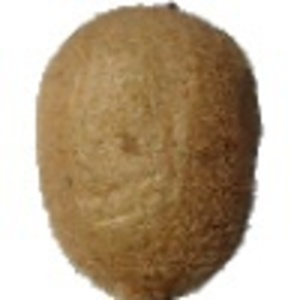kiwi: (34, 1, 263, 300)
